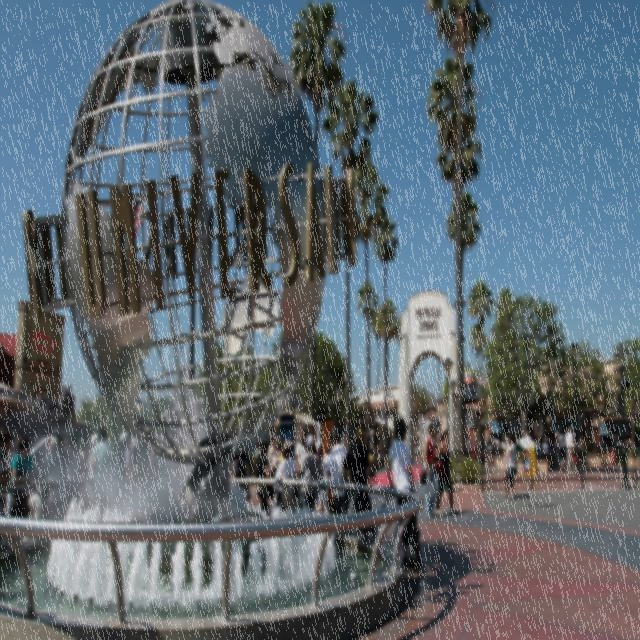pessoa: (384, 414, 426, 572), (342, 423, 378, 542), (324, 426, 354, 536), (6, 432, 34, 520), (434, 427, 459, 517), (34, 384, 77, 432), (274, 441, 299, 514), (252, 438, 272, 524), (114, 429, 131, 528), (423, 422, 439, 522), (532, 427, 566, 472), (294, 427, 310, 512), (302, 432, 319, 512), (88, 424, 112, 474), (232, 443, 252, 501), (324, 432, 338, 514), (502, 432, 518, 501), (68, 431, 88, 486), (564, 424, 576, 480), (275, 448, 286, 509), (0, 432, 13, 474), (267, 434, 280, 464), (366, 446, 376, 484), (484, 436, 492, 466), (490, 436, 497, 466), (465, 432, 472, 462), (376, 437, 384, 462), (46, 434, 60, 448), (254, 440, 262, 459), (90, 430, 99, 445)
